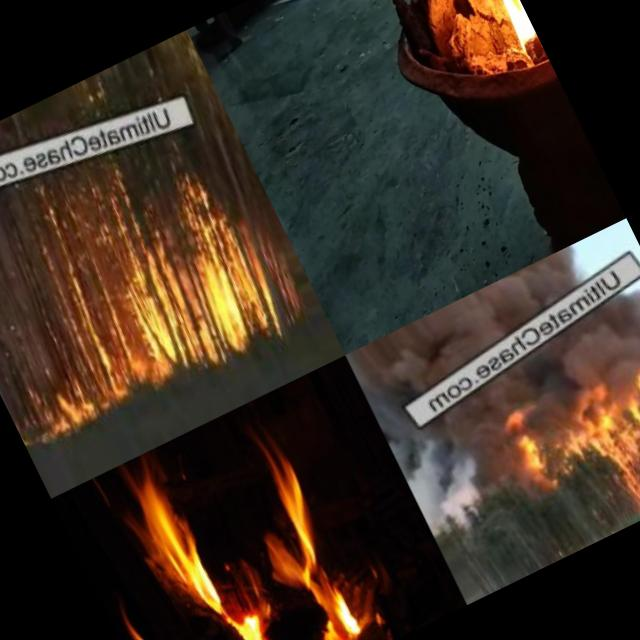fire: (102, 401, 395, 640), (99, 192, 288, 380), (562, 342, 640, 518), (33, 331, 144, 435), (494, 401, 565, 494), (433, 0, 541, 60)
smoke: (391, 413, 516, 551)
